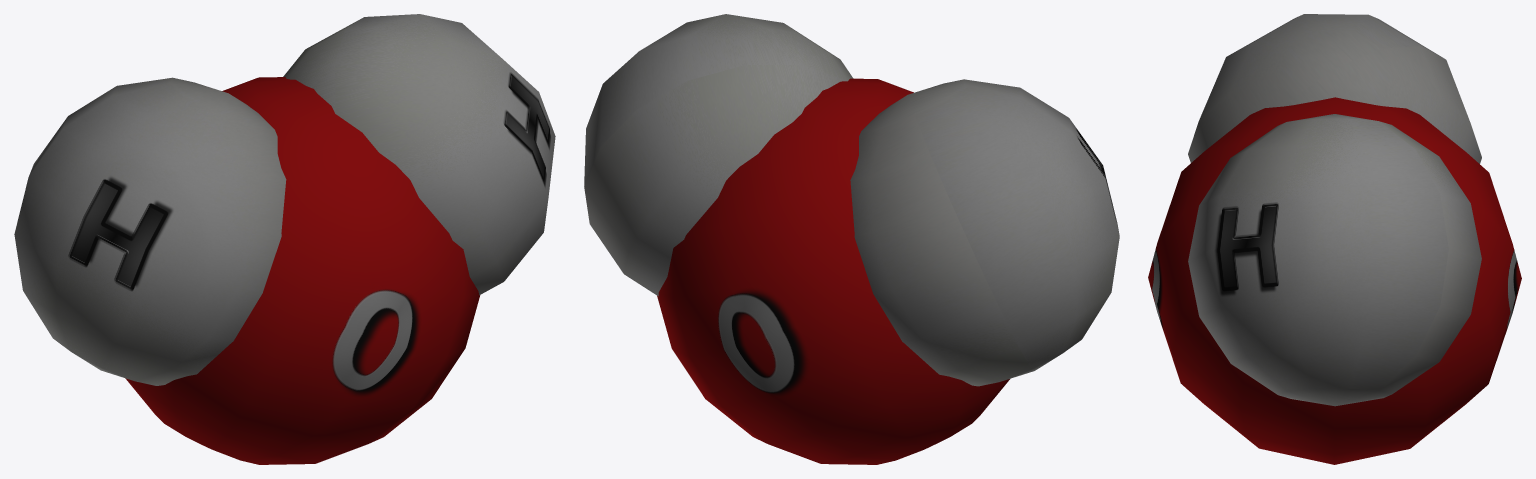
File: Water.gltf
3 renders of one model, left to right at view 1: azimuth 30°, elevation 25°; view 2: azimuth 150°, elevation 25°; view 3: azimuth 270°, elevation 25°, orthographic. The views are drawn at different scales.
Parts seen in each view (by area): view 1: Water; view 2: Water; view 3: Water.
Boxes of the visible parts, x1,y1,x2,y2 form: Water: [14, 14, 555, 464]; Water: [584, 14, 1119, 464]; Water: [1148, 14, 1521, 464].
Size of the model in its own units: 1.85 by 1.39 by 1.27.
2 materials, 2 textured.
